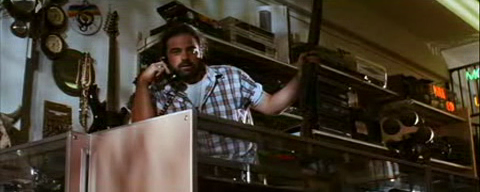face: (167, 36, 201, 77)
ms: (1, 1, 480, 192)
person: (131, 23, 318, 191)
